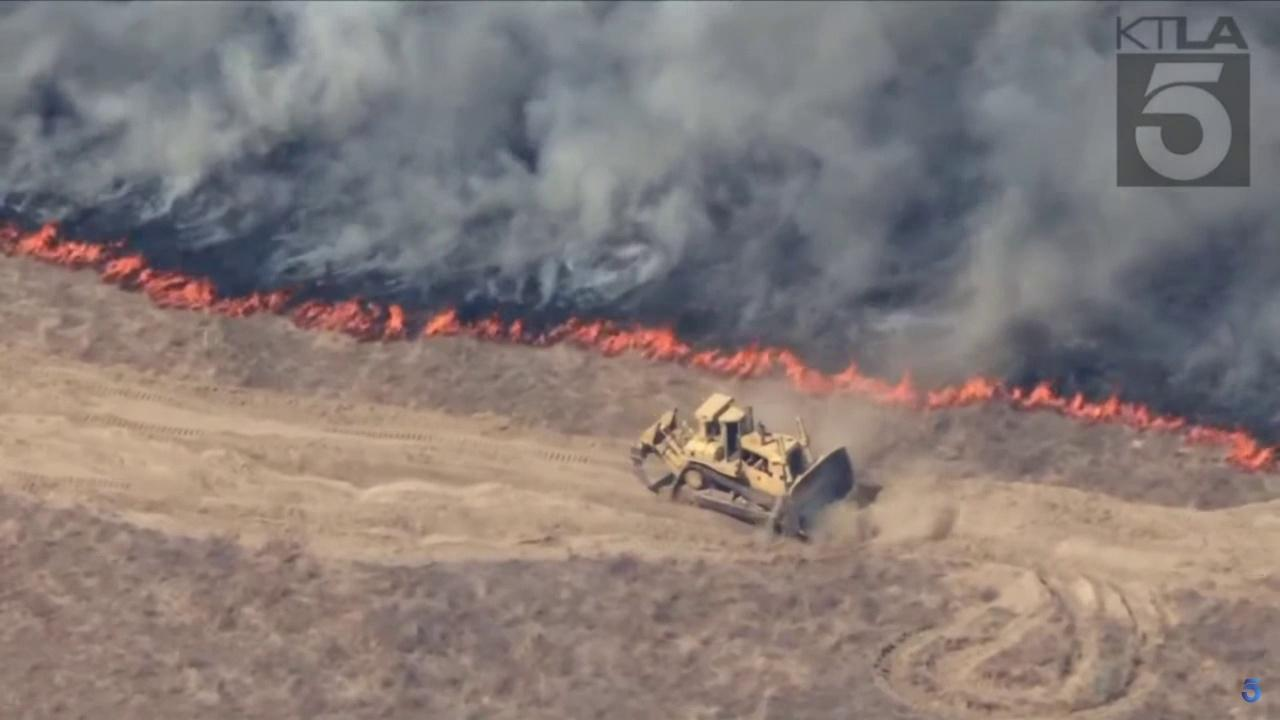fire: (423, 305, 1280, 475), (0, 222, 407, 345)
smoke: (0, 0, 1280, 426)
